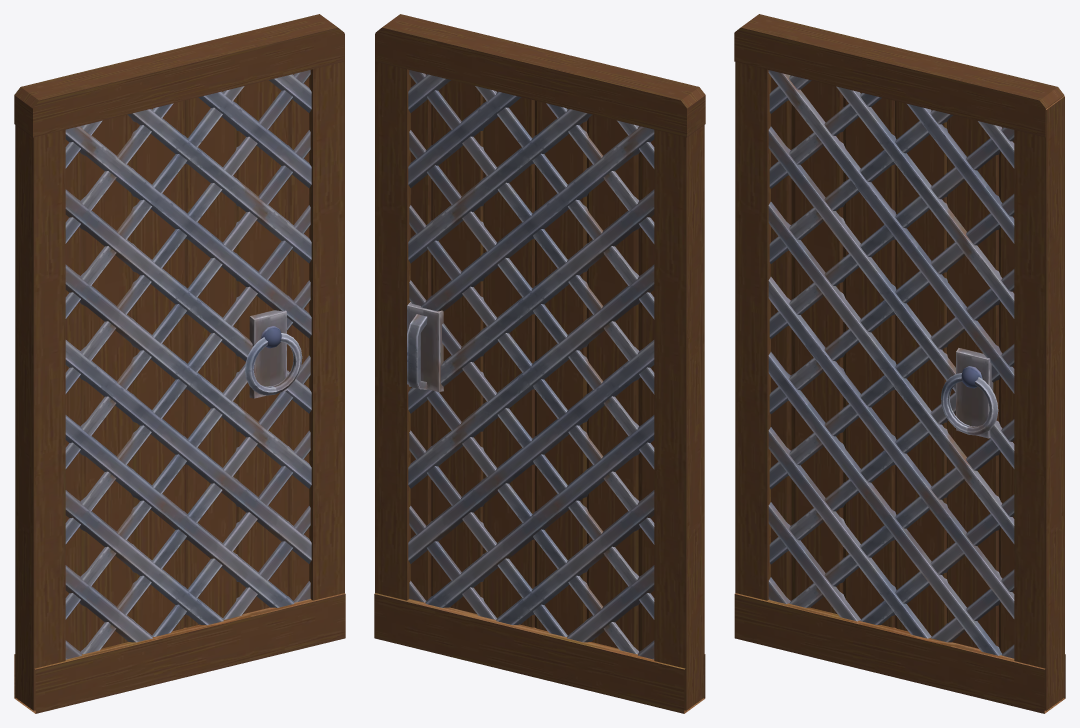
Rendered from door_4_flat.glb.
3 renders of one model, left to right at view 1: azimuth 30°, elevation 25°; view 2: azimuth 150°, elevation 25°; view 3: azimuth 330°, elevation 25°, orthographic.
Bounding box in the file's own units: 1.12 × 2.09 × 0.2094.
Materials: 2 (2 with a texture image).
